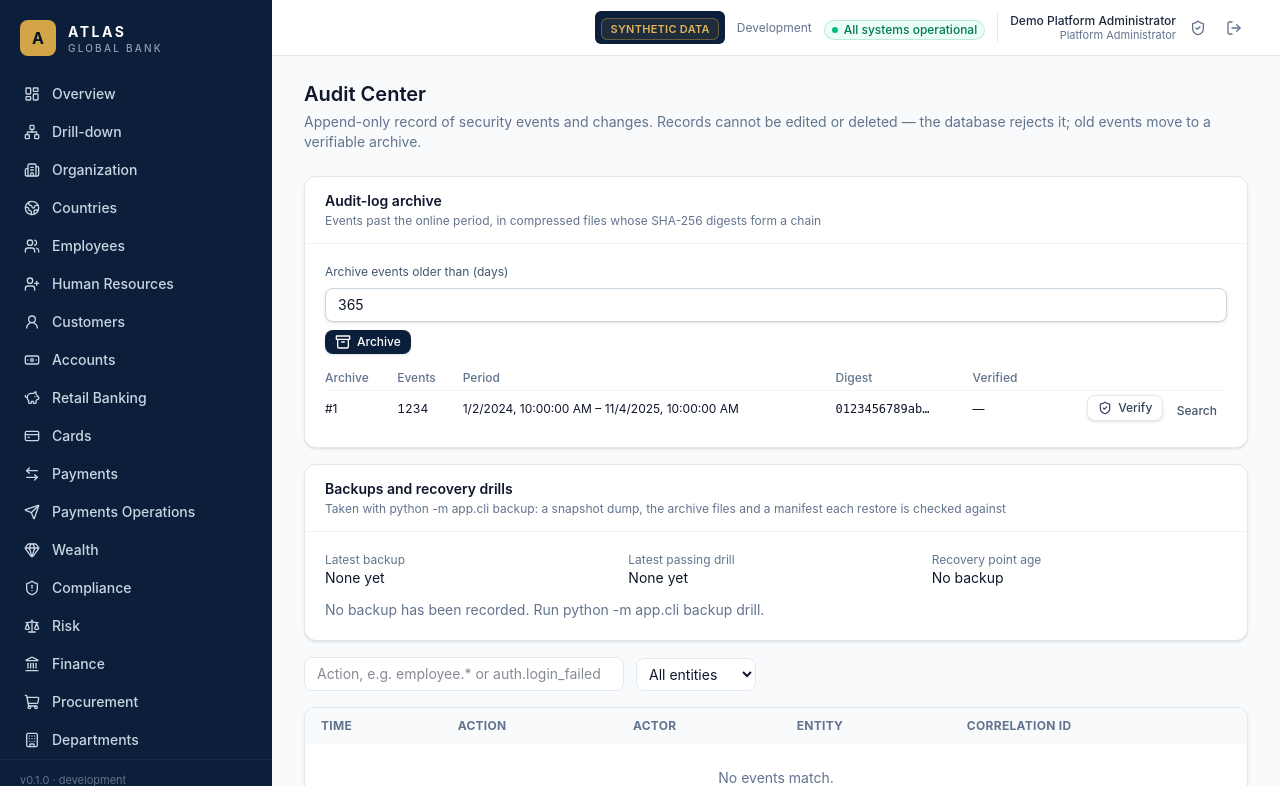
Test case: Archive search pagination (PR #76 review) › pages through every matching archived event
The image size is (1280, 786).
Click the button with aria-label "Search archive 1" at (1197, 411), box left=1167, top=399, right=1227, bottom=423
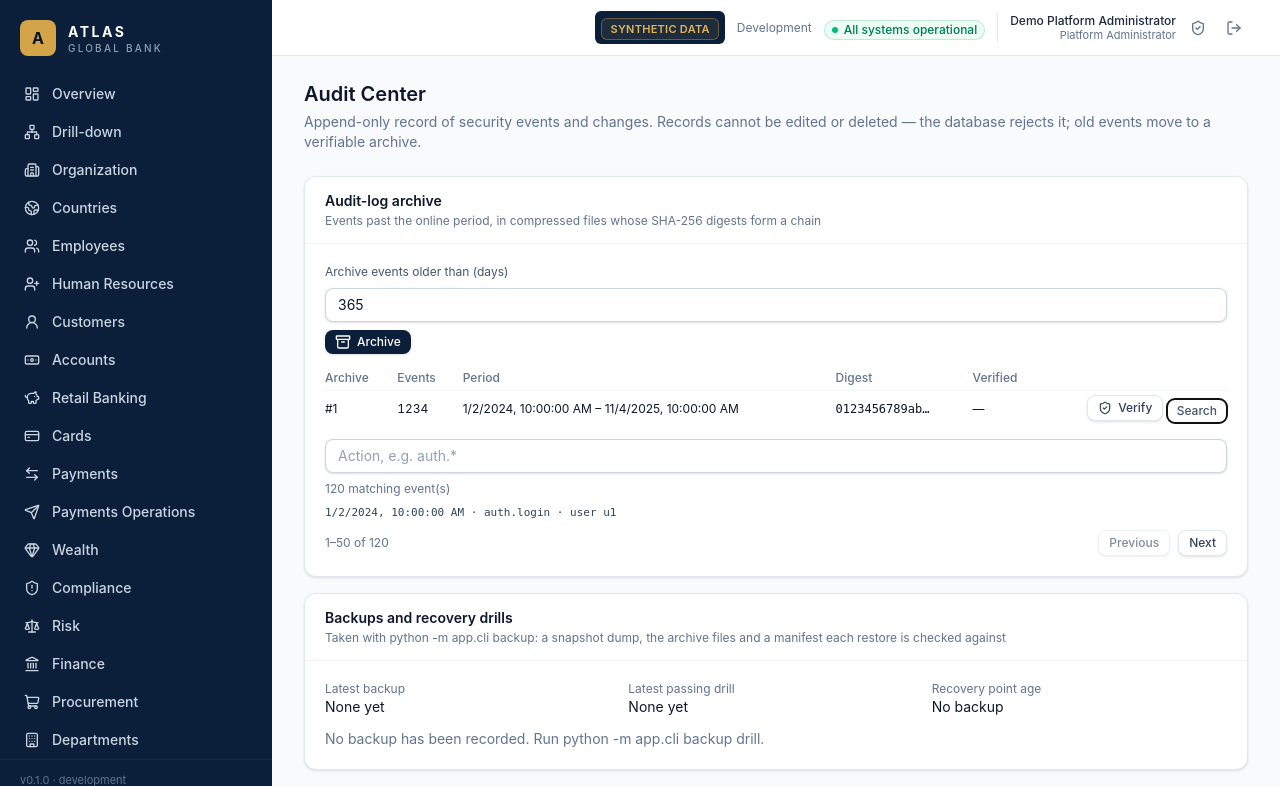
Expected: the list item "1/2/2024, 10:00:00 AM · auth.login · user u1" is shown, left=325, top=506, right=616, bottom=519
Expected: the text "1–50 of 120" is shown, left=325, top=534, right=389, bottom=550
Click the button "Next" at (1203, 542), box left=1178, top=530, right=1227, bottom=556
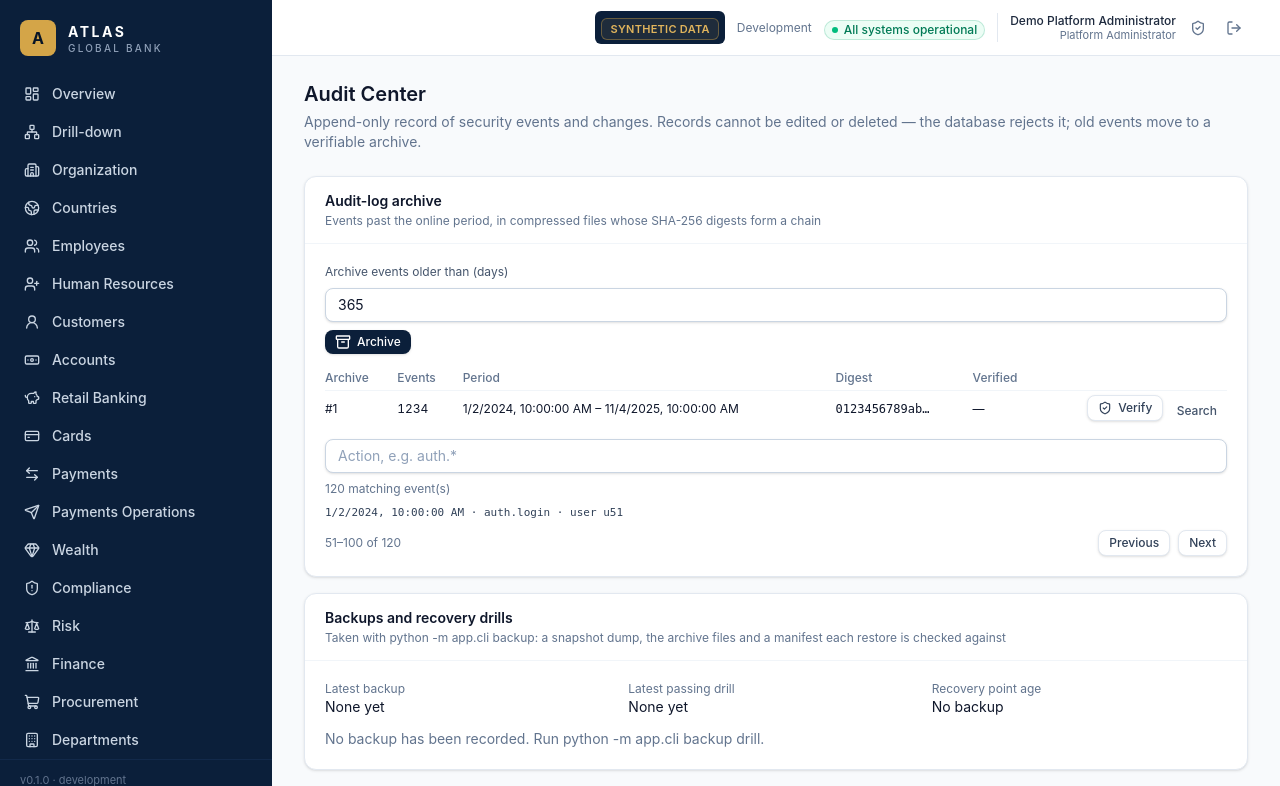
Expected: the list item "1/2/2024, 10:00:00 AM · auth.login · user u51" is shown, left=325, top=506, right=623, bottom=519
Expected: the text "51–100 of 120" is shown, left=325, top=534, right=401, bottom=550
